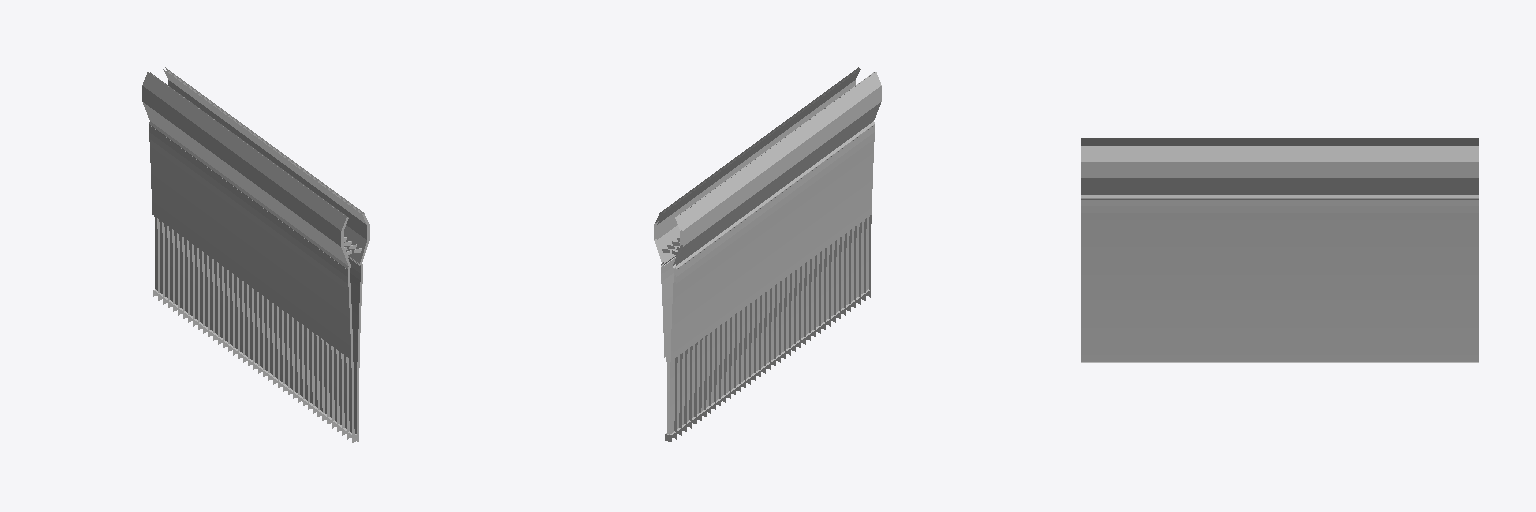
Rendered from tunnel2.obj.
The picture shows the model from 3 angles: view 1: azimuth 30°, elevation 25°; view 2: azimuth 150°, elevation 25°; view 3: azimuth 270°, elevation 25°; orthographic projection.
Parts seen in each view (by area): view 1: Plane; view 2: Plane; view 3: Plane.
Boxes of the visible parts, x1,y1,x2,y2 form: Plane: [142, 67, 369, 442]; Plane: [654, 67, 881, 441]; Plane: [1081, 138, 1478, 362].
Size of the model in its own units: 13.24 by 102 by 161.